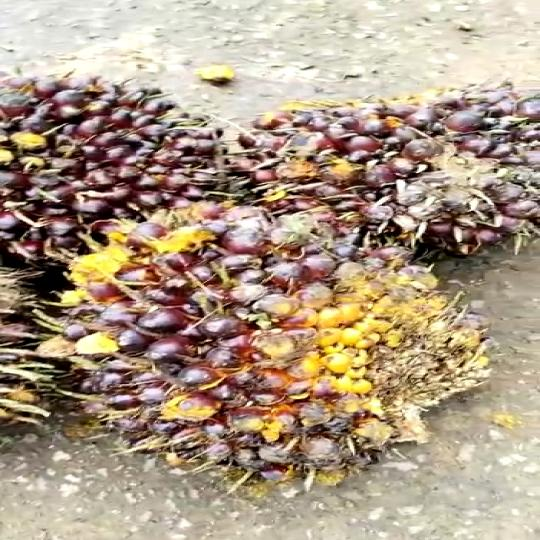kurang masak: (39, 195, 449, 498), (228, 93, 540, 262), (0, 54, 215, 273)
